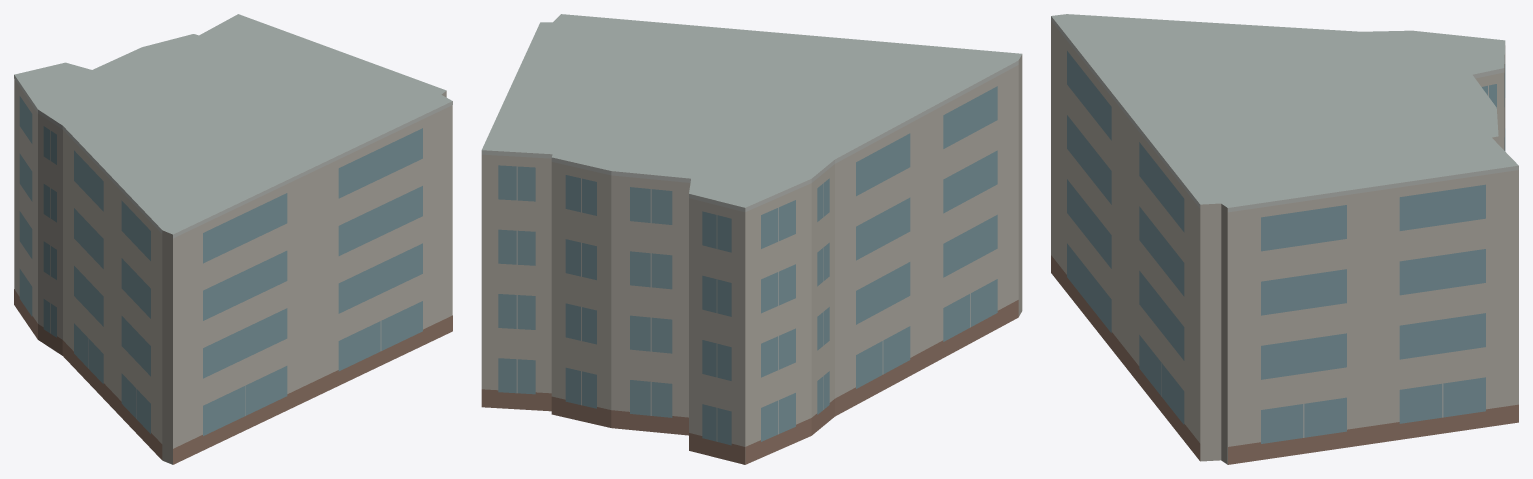
The model's file is survey-upis-32838247.glb.
The picture shows the model from 3 angles, left to right: view 1: azimuth 30°, elevation 25°; view 2: azimuth 150°, elevation 25°; view 3: azimuth 270°, elevation 25°; orthographic projection. The views are drawn at different scales.
Parts seen in each view (by area): view 1: survey-upis-32838247.tmp; view 2: survey-upis-32838247.tmp; view 3: survey-upis-32838247.tmp.
Part boxes in pixels (bbox=[...]): survey-upis-32838247.tmp: bbox=[14, 14, 452, 464]; survey-upis-32838247.tmp: bbox=[481, 14, 1022, 464]; survey-upis-32838247.tmp: bbox=[1051, 14, 1518, 464].
Size of the model in its own units: 23.12 by 14.27 by 23.56.
